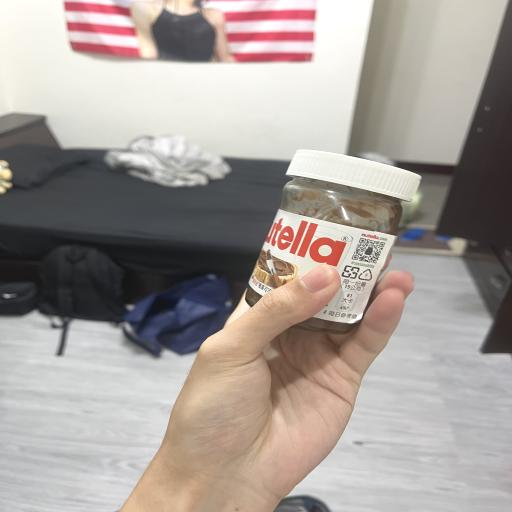chocolate_jar: (245, 150, 421, 334)
